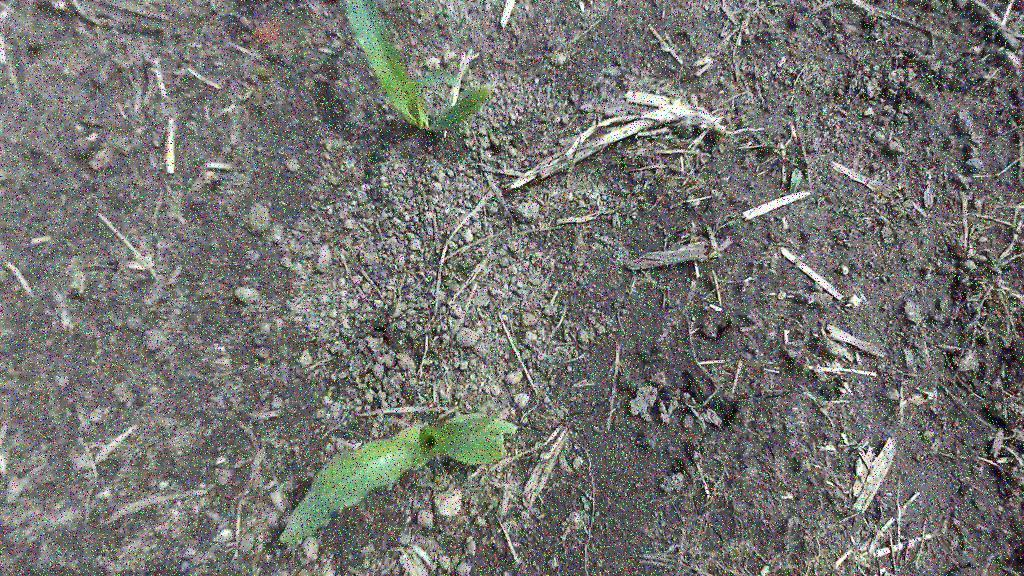BroWeed: (249, 13, 290, 50), (820, 338, 857, 366), (214, 508, 234, 538), (843, 291, 864, 313), (908, 389, 931, 409), (901, 345, 917, 372), (318, 133, 338, 153), (229, 90, 254, 105), (297, 348, 314, 369), (789, 168, 803, 193), (212, 530, 234, 542), (323, 383, 338, 400), (463, 126, 488, 136), (579, 494, 592, 513), (485, 499, 500, 513), (939, 517, 950, 536), (664, 86, 680, 98), (256, 69, 271, 79), (433, 474, 445, 484), (776, 290, 788, 300), (315, 347, 322, 359)
Maize: (256, 385, 528, 549)
